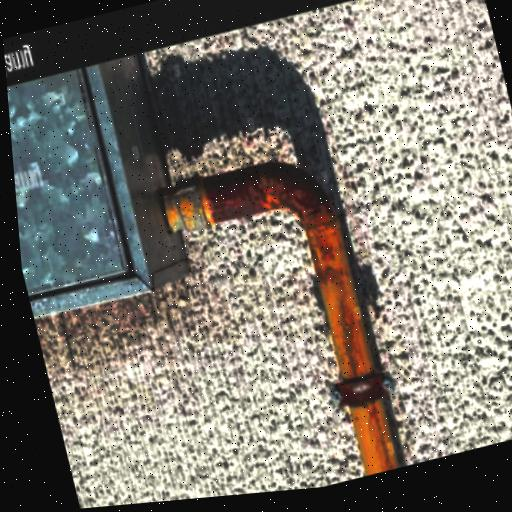corrosion: (199, 148, 331, 228)
